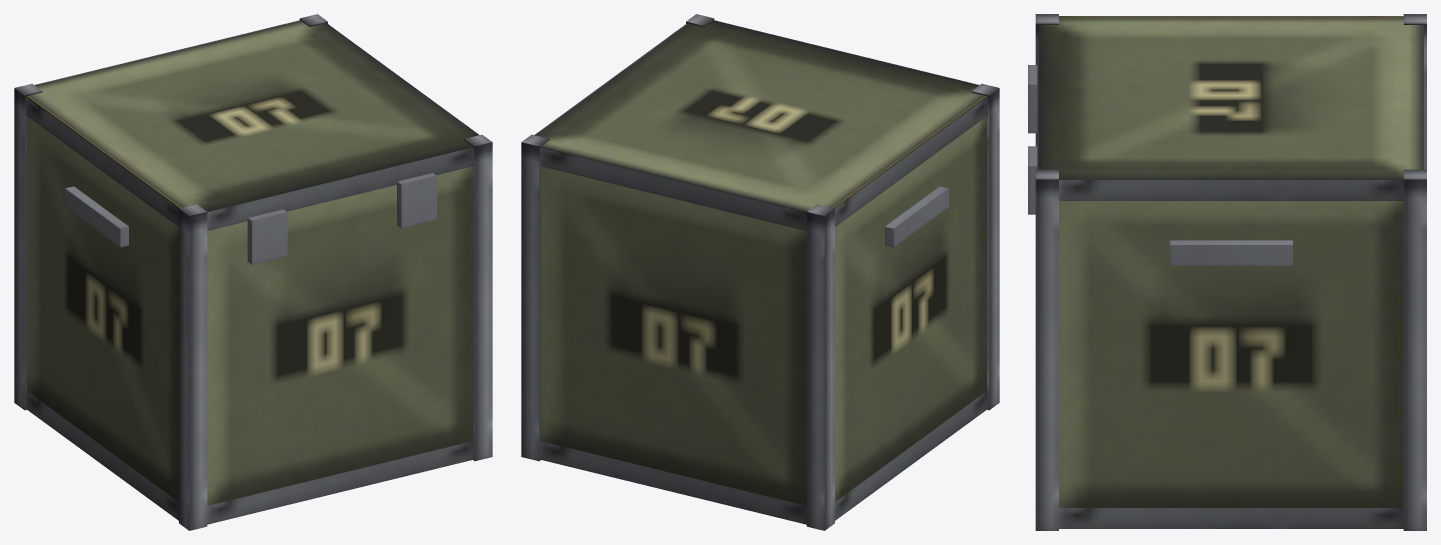
The model's file is crate_small.obj.
The picture shows the model from 3 angles, left to right: view 1: azimuth 30°, elevation 25°; view 2: azimuth 150°, elevation 25°; view 3: azimuth 270°, elevation 25°; orthographic projection. The views are drawn at different scales.
Visible parts, largest first — view 1: crate_small; view 2: crate_small; view 3: crate_small.
Part boxes in pixels (x1,y1,x2,y2): crate_small: [14, 14, 492, 530]; crate_small: [521, 14, 999, 530]; crate_small: [1028, 14, 1426, 530].
Bounding box in the file's own units: 0.539 × 0.504 × 0.518.
1 material, 1 textured.
